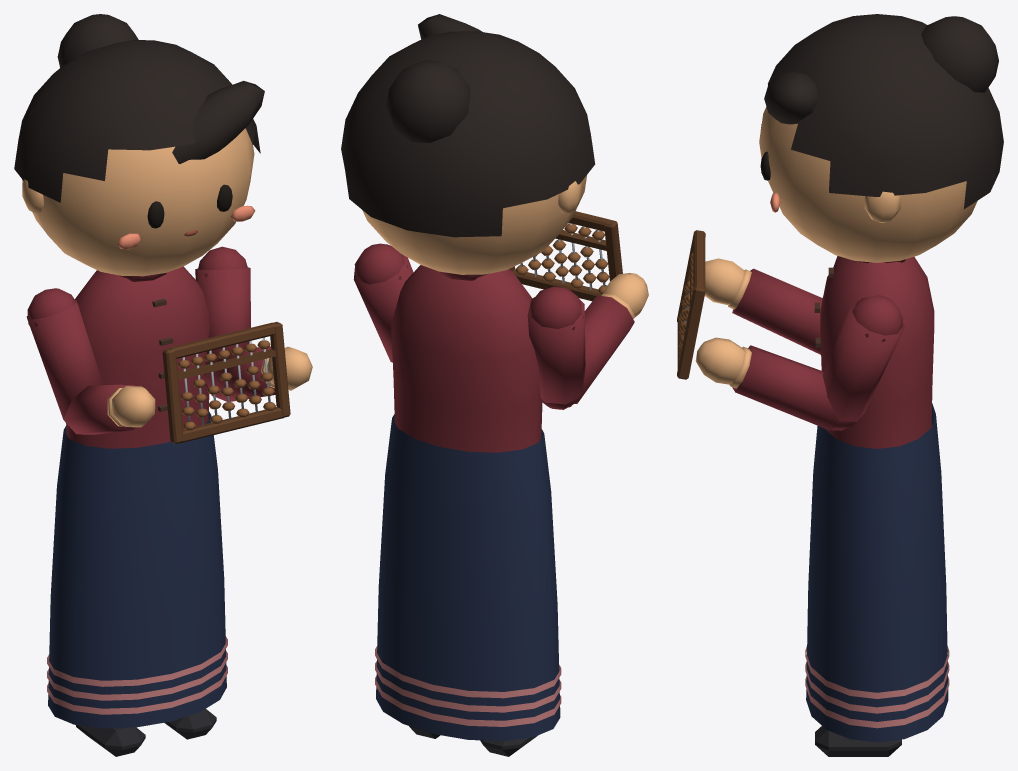
Rendered from central_abacus_woman.glb.
3 renders of one model, left to right at view 1: azimuth 30°, elevation 25°; view 2: azimuth 150°, elevation 25°; view 3: azimuth 270°, elevation 25°, orthographic. The views are drawn at different scales.
Visible parts, largest first — view 1: body, head, prop_abacus, arm_R, arm_L, forearm_R, forearm_L, shin_R, shin_L; view 2: body, head, arm_R, prop_abacus, forearm_R, arm_L, shin_R; view 3: body, head, forearm_L, arm_L, forearm_R, prop_abacus, shin_L.
Boxes of the visible parts, bbox=[...] form: body: bbox=[47, 266, 227, 728]; head: bbox=[14, 14, 264, 276]; prop_abacus: bbox=[162, 322, 290, 443]; arm_R: bbox=[26, 288, 102, 426]; arm_L: bbox=[195, 246, 250, 396]; forearm_R: bbox=[63, 384, 155, 434]; forearm_L: bbox=[204, 346, 312, 401]; shin_R: bbox=[76, 725, 145, 756]; shin_L: bbox=[164, 709, 216, 739]; body: bbox=[375, 265, 561, 740]; head: bbox=[341, 14, 595, 274]; arm_R: bbox=[527, 286, 585, 409]; prop_abacus: bbox=[510, 211, 622, 301]; forearm_R: bbox=[541, 273, 648, 409]; arm_L: bbox=[353, 243, 413, 362]; shin_R: bbox=[480, 735, 537, 756]; body: bbox=[805, 256, 949, 742]; head: bbox=[759, 14, 1003, 262]; forearm_L: bbox=[695, 337, 855, 430]; arm_L: bbox=[822, 295, 904, 430]; forearm_R: bbox=[704, 258, 822, 354]; prop_abacus: bbox=[677, 230, 705, 379]; shin_L: bbox=[815, 726, 901, 756].
Size of the model in its own units: 0.4932 by 1.47 by 0.6099.
